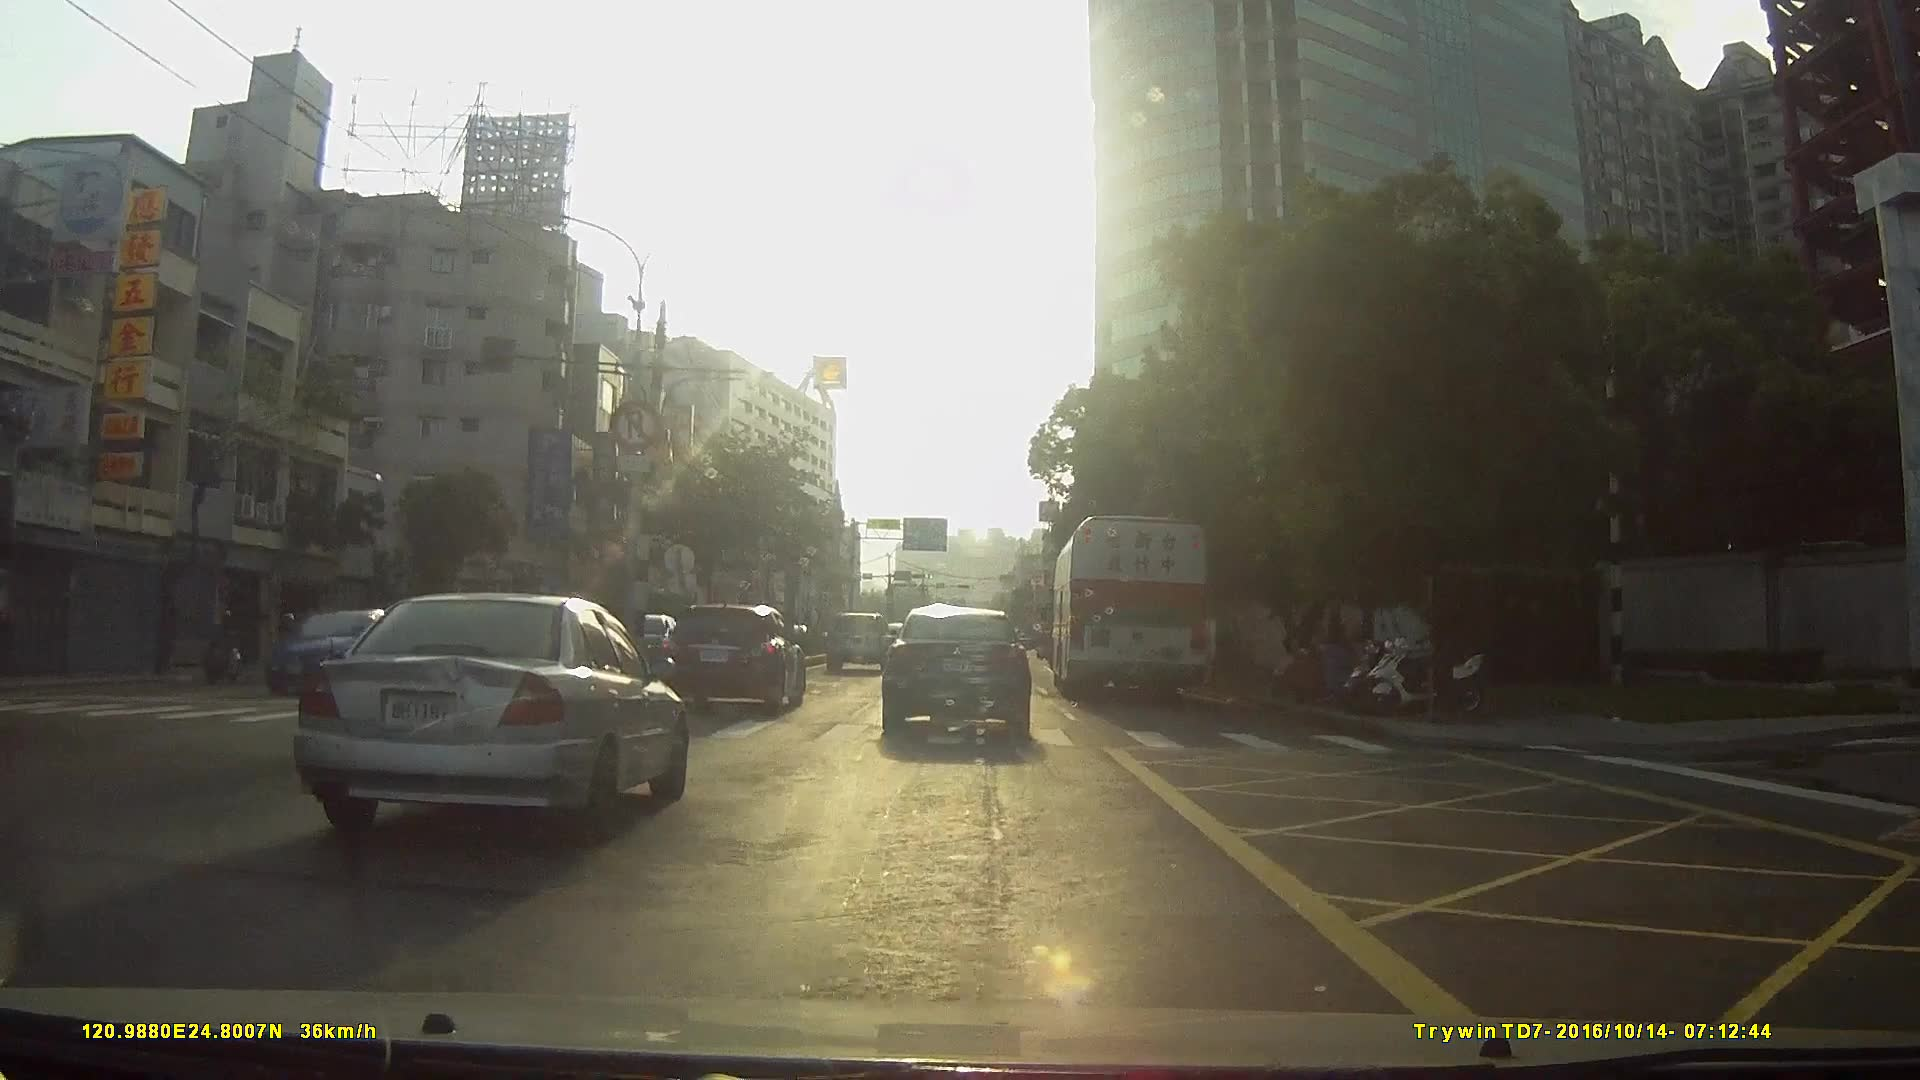rider: (205, 608, 248, 681)
vehicle: (285, 590, 687, 840), (1051, 511, 1213, 708), (882, 606, 1035, 745), (258, 604, 411, 712), (664, 604, 810, 718), (824, 614, 895, 679)
